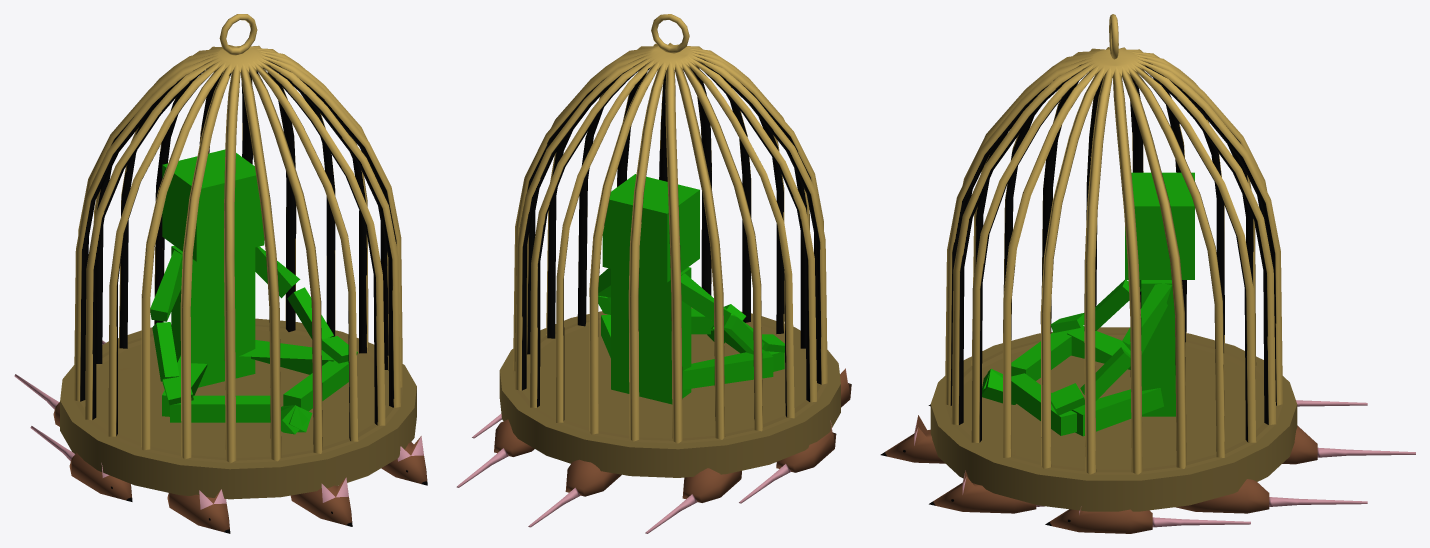
File: character_v1_1.fbx
3 views of the same model, side by side, from view 1: azimuth 30°, elevation 25°; view 2: azimuth 150°, elevation 25°; view 3: azimuth 270°, elevation 25° (orthographic). The views are drawn at different scales.
Parts seen in each view (by area): view 1: BézierCircle, Cube.006, Plane; view 2: BézierCircle, Cube.006, Plane; view 3: BézierCircle, Cube.006, Plane.
Part boxes in pixels (x1,y1,x2,y2): BézierCircle: [60, 14, 416, 499]; Cube.006: [150, 149, 357, 434]; Plane: [14, 340, 427, 533]; BézierCircle: [499, 14, 840, 477]; Cube.006: [598, 174, 784, 404]; Plane: [456, 368, 851, 533]; BézierCircle: [930, 14, 1297, 511]; Cube.006: [982, 172, 1194, 436]; Plane: [880, 400, 1415, 533].
Size of the model in its own units: 193 by 250 by 277.
3 materials, 3 textured.
